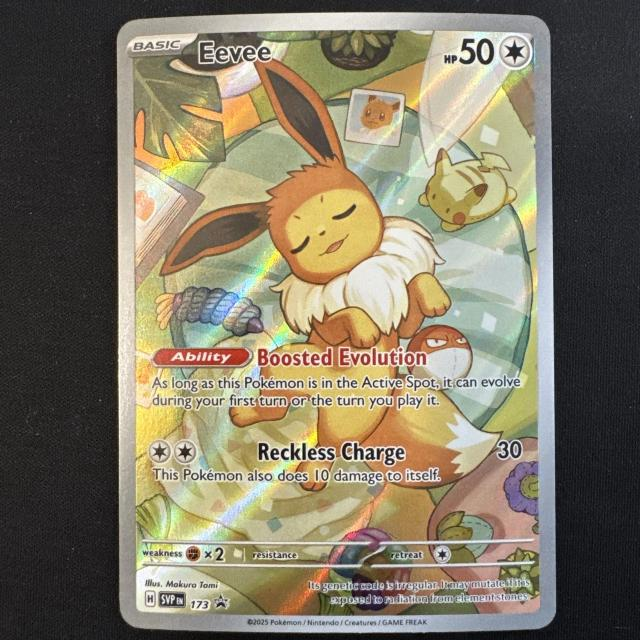Card: (109, 8, 564, 640)
Name: (191, 31, 278, 73)
